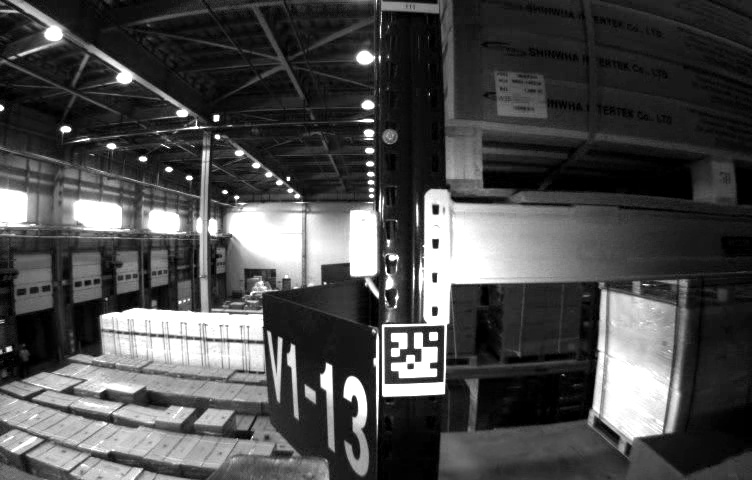True Barcode: (491, 68, 548, 117)
